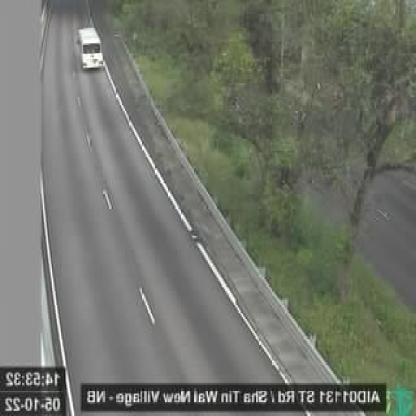Car: (80, 24, 106, 71)
